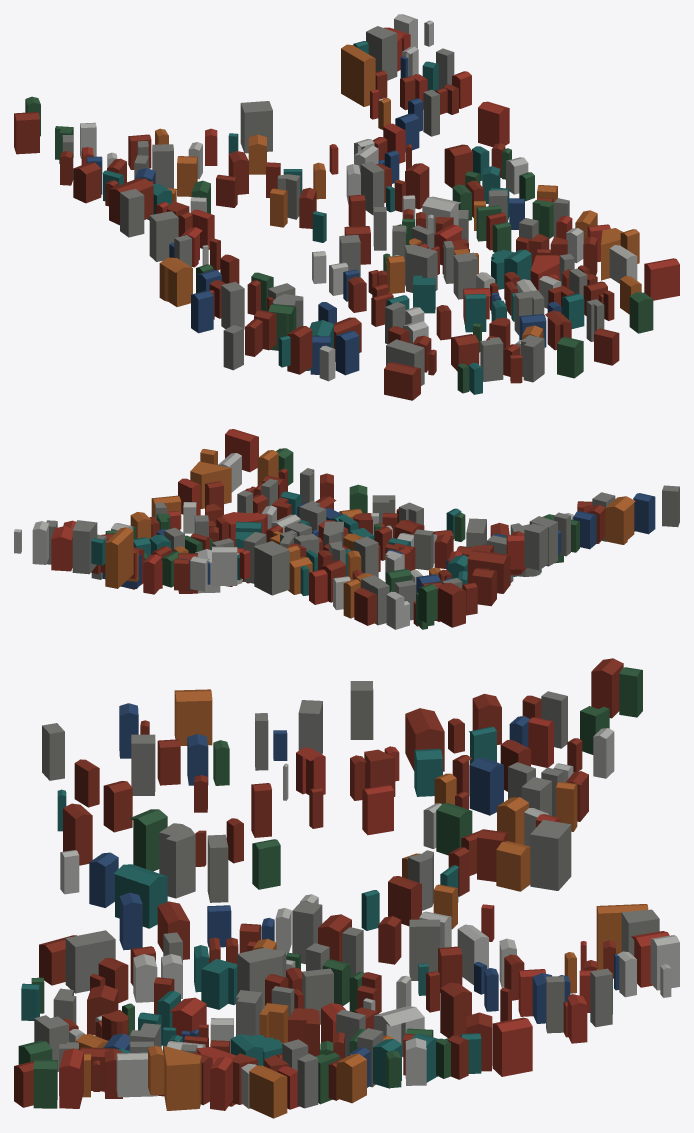
File: near-17-109438-59470.a6e8cb53.glb
3 views of the same model, one above another, from view 1: azimuth 30°, elevation 25°; view 2: azimuth 150°, elevation 25°; view 3: azimuth 270°, elevation 25° (orthographic). The views are drawn at different scales.
Size of the model in its own units: 306 by 112 by 297.
